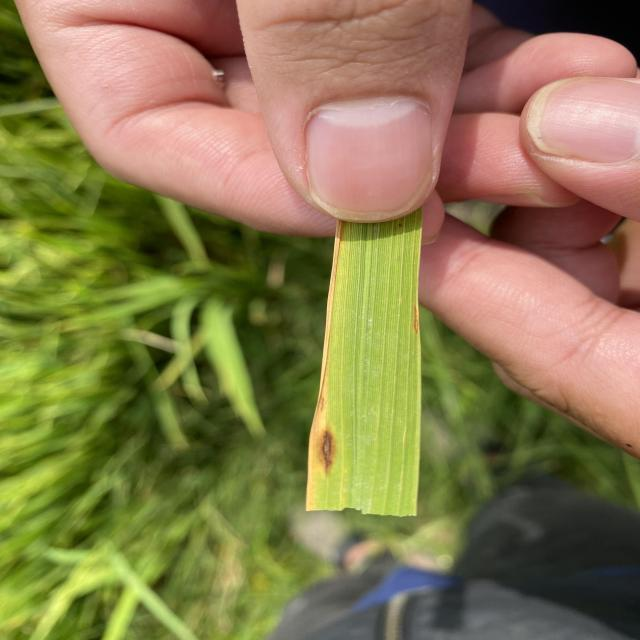Dom nau: (320, 428, 337, 474), (413, 305, 419, 335)
